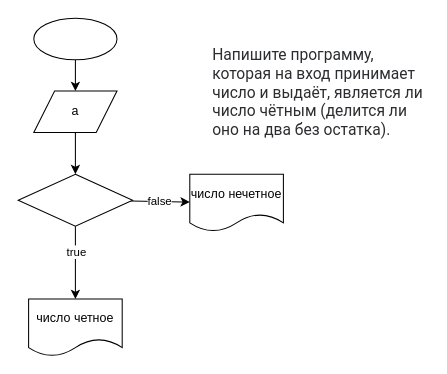
This 447x374 diagram has some shape labels left out. The shapes that lost their labels are listed below. From the top down, each one's centre as x and y in pixels, then its label:
At pixel 75 38: "start".
At pixel 75 199: "a % 2 == 0".
